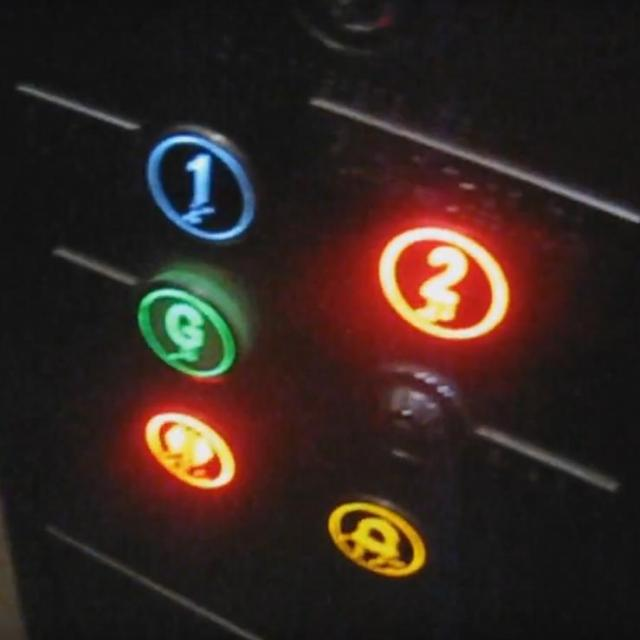1: (144, 123, 260, 244)
2: (375, 218, 510, 342)
G: (132, 266, 251, 384)
alarm: (322, 488, 434, 582)
blur: (355, 362, 469, 469)
open: (139, 402, 239, 490)
